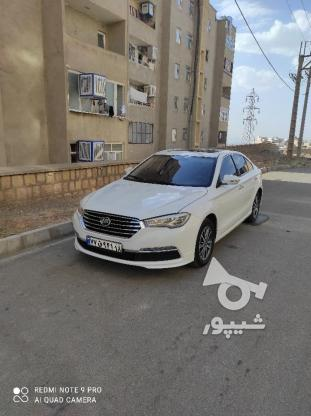car: (86, 236, 124, 251)
